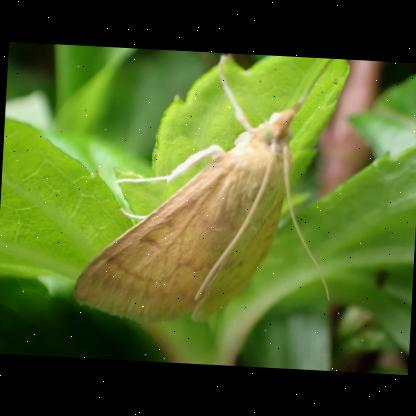Asian Corn Borer Moth: (68, 46, 346, 338)
